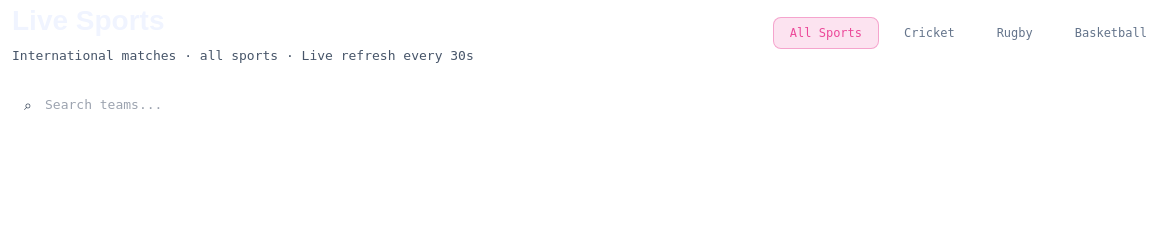
Test case: Sports page › supports searching teams
This screenshot has width=1163, height=237.
Type "nomatchvalue" into the field with placeholder "Search teams...". click: (122, 104)
box: [12,86,232,123]
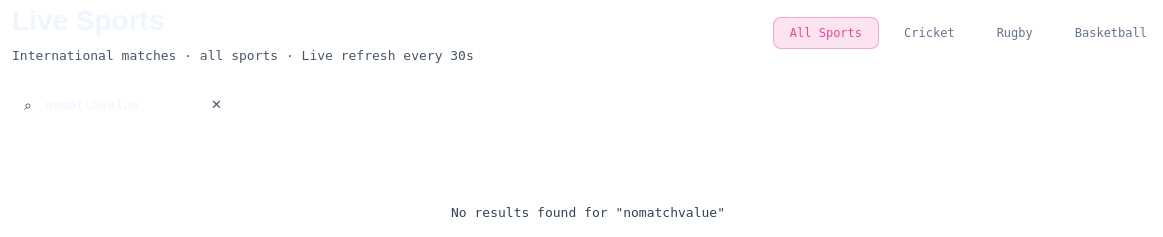
Check: the text "No results found for \"nomatchvalue\"" is shown, box [451,205,725,220]
